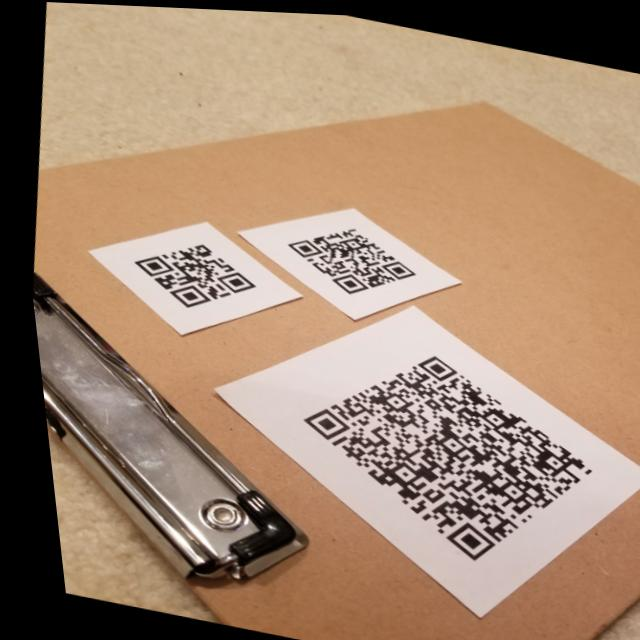QR_CODE: (256, 318, 621, 589), (263, 199, 431, 311), (107, 214, 268, 326)
